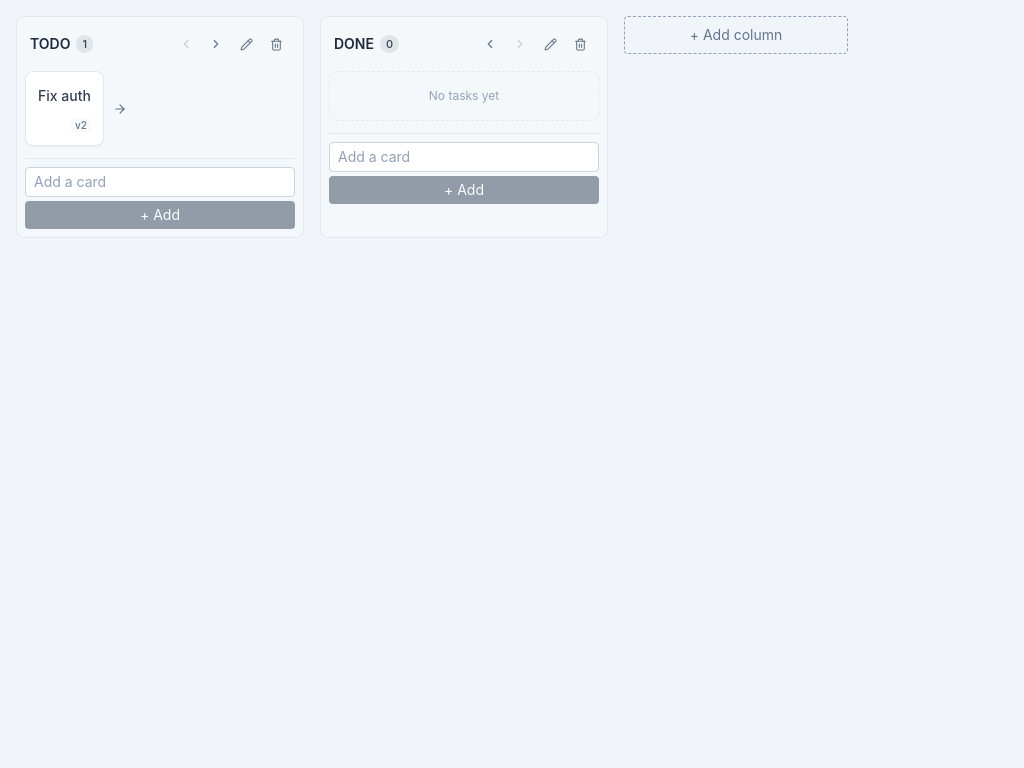
Test case: Board › rolls back on 409, adopts the server version, and surfaces a flash
Step 1. Click the button named "move Fix auth to DONE" → (120, 109), box [104, 93, 136, 125]
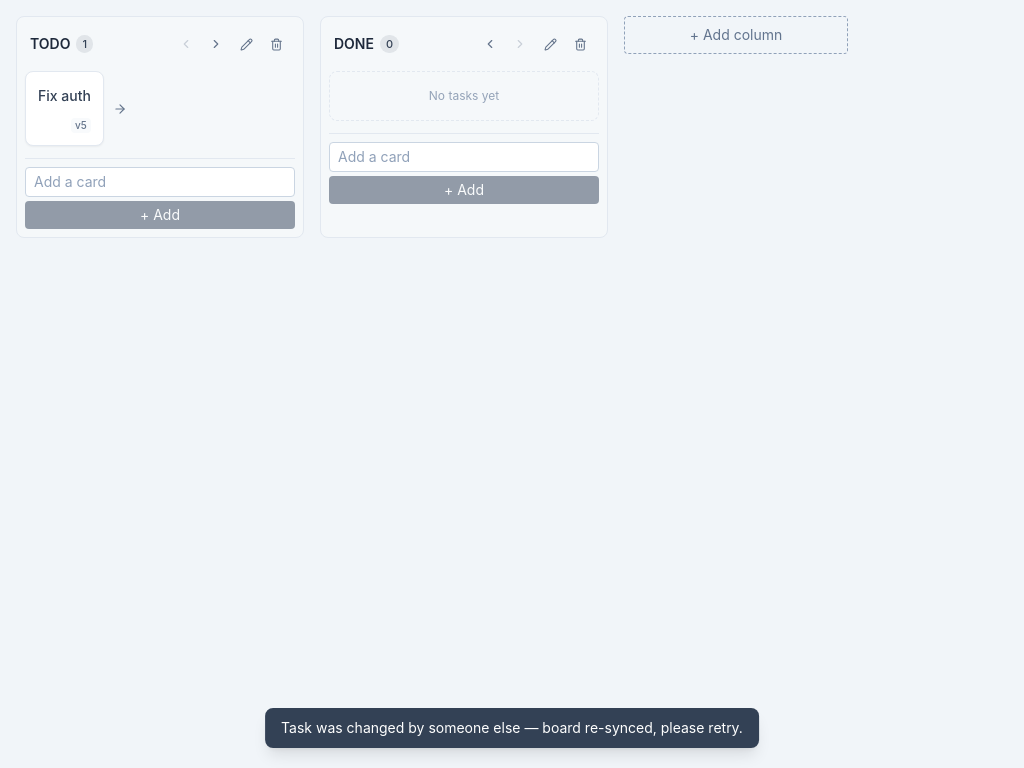
Expected: the message shows "changed by someone else", [281, 719, 743, 736]
Expected: the text "v5" is shown, [71, 118, 91, 133]
